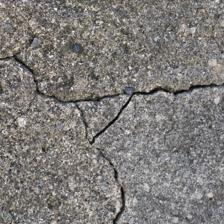Crack: (5, 53, 220, 110), (89, 93, 139, 144), (99, 153, 131, 223)
